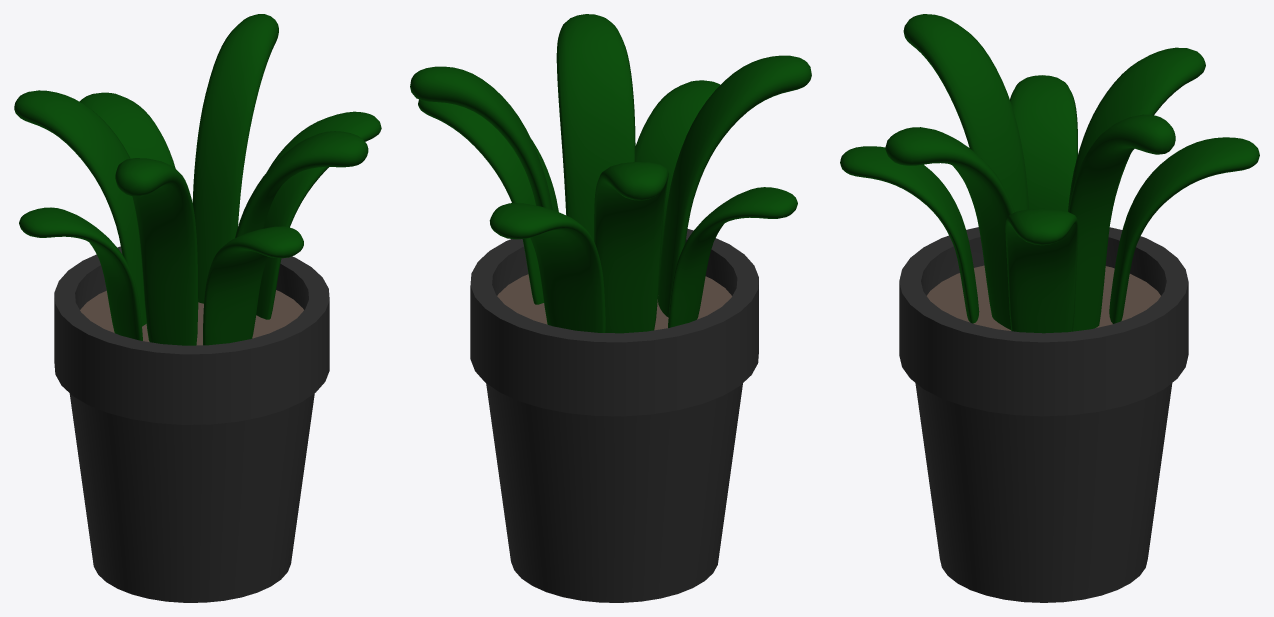
The model's file is Plante3_3.fbx.
3 views of the same model, side by side, from view 1: azimuth 30°, elevation 25°; view 2: azimuth 150°, elevation 25°; view 3: azimuth 270°, elevation 25° (orthographic). The views are drawn at different scales.
Visible parts, largest first — view 1: pCylinder728, pCube1923, pCube1927, pCube1921, pCube1926, pCube1928, pCube1925, pCube1922, pCube1924, pCylinder729; view 2: pCylinder728, pCube1922, pCube1921, pCube1927, pCube1924, pCube1928, pCube1923, pCube1925, pCube1926, pCylinder729; view 3: pCylinder728, pCube1927, pCube1923, pCube1925, pCube1922, pCube1928, pCube1924, pCube1921, pCube1926, pCylinder729.
Part boxes in pixels (x1,y1,x2,y2): pCylinder728: [54, 246, 329, 602]; pCube1923: [192, 14, 278, 303]; pCube1927: [115, 158, 198, 345]; pCube1921: [14, 90, 146, 326]; pCube1926: [203, 226, 303, 345]; pCube1928: [19, 207, 142, 340]; pCube1925: [256, 111, 381, 319]; pCube1922: [235, 131, 368, 237]; pCube1924: [79, 92, 175, 168]; pCylinder729: [80, 290, 303, 345]; pCylinder728: [470, 229, 758, 602]; pCube1922: [556, 14, 635, 240]; pCube1921: [594, 162, 668, 333]; pCube1927: [658, 55, 811, 317]; pCube1924: [489, 203, 605, 332]; pCube1928: [668, 187, 797, 327]; pCube1923: [410, 66, 552, 209]; pCube1925: [418, 99, 558, 304]; pCube1926: [635, 80, 720, 279]; pCylinder729: [497, 274, 731, 330]; pCylinder728: [899, 227, 1188, 602]; pCube1927: [903, 14, 1028, 211]; pCube1923: [1068, 114, 1175, 331]; pCube1925: [1005, 208, 1078, 333]; pCube1922: [885, 127, 1014, 329]; pCube1928: [1010, 75, 1077, 211]; pCube1924: [1109, 137, 1259, 323]; pCube1921: [1068, 47, 1205, 221]; pCube1926: [840, 146, 979, 323]; pCylinder729: [927, 265, 1160, 330].
Size of the model in its own units: 16.65 by 21.34 by 16.27.
